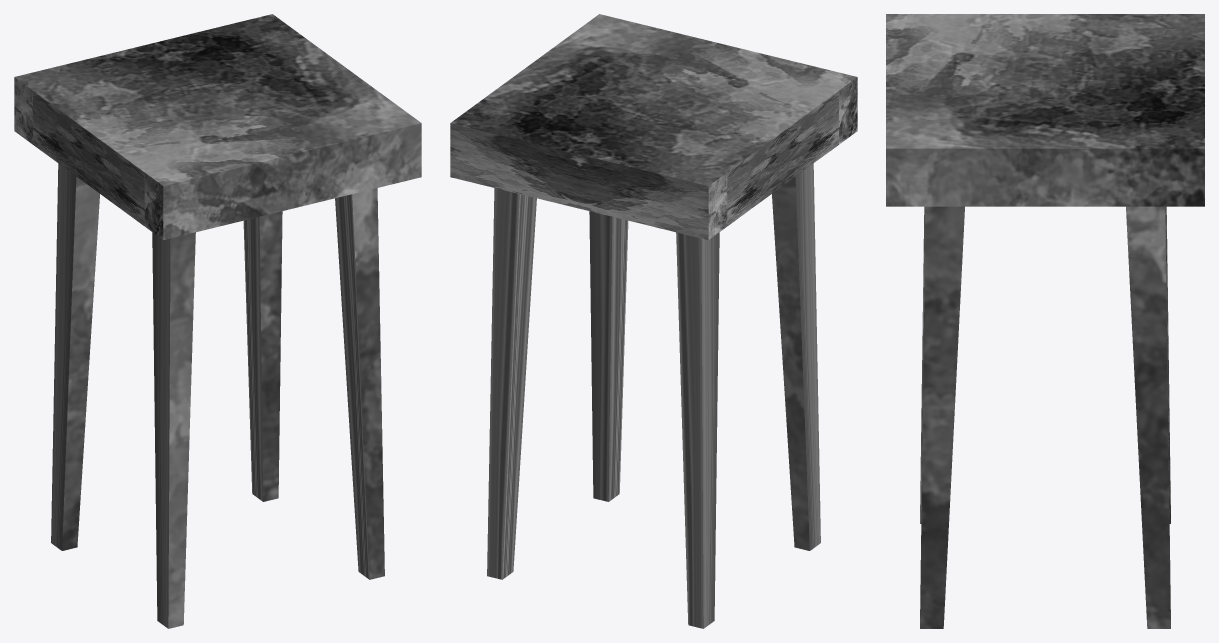
Rendered from Silla.glb.
3 renders of one model, left to right at view 1: azimuth 30°, elevation 25°; view 2: azimuth 150°, elevation 25°; view 3: azimuth 270°, elevation 25°, orthographic. The views are drawn at different scales.
Parts seen in each view (by area): view 1: Cube; view 2: Cube; view 3: Cube.
Part boxes in pixels (x1,y1,x2,y2): Cube: (14,14,421,628); Cube: (450,14,857,628); Cube: (886,14,1204,628).
Bounding box in the file's own units: 0.5 × 0.85 × 0.5.
Materials: 1 (1 with a texture image).
